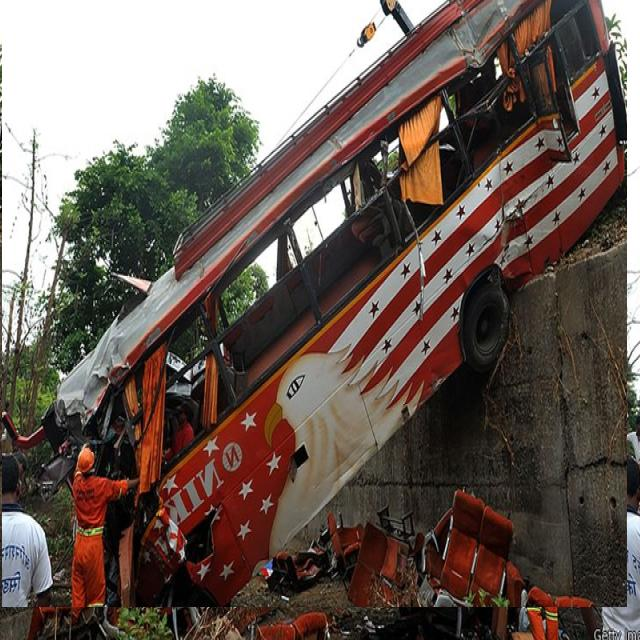accident: (2, 0, 627, 607)
